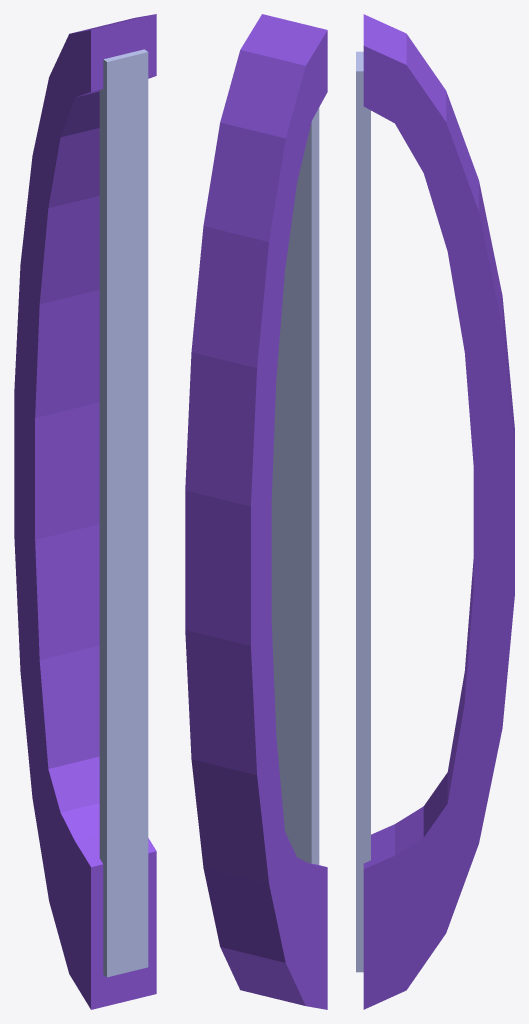
File: Props_Instruments_Bow.fbx
3 views of the same model, side by side, from view 1: azimuth 30°, elevation 25°; view 2: azimuth 150°, elevation 25°; view 3: azimuth 270°, elevation 25° (orthographic).
Parts seen in each view (by area): view 1: Props_Instruments_Bow; view 2: Props_Instruments_Bow; view 3: Props_Instruments_Bow.
Part boxes in pixels (x1,y1,x2,y2): Props_Instruments_Bow: (14,14,156,1009); Props_Instruments_Bow: (185,14,327,1009); Props_Instruments_Bow: (356,14,514,1009).
Size of the model in its own units: 0.0481 by 0.686 by 0.1023.
1 material, 1 textured.
